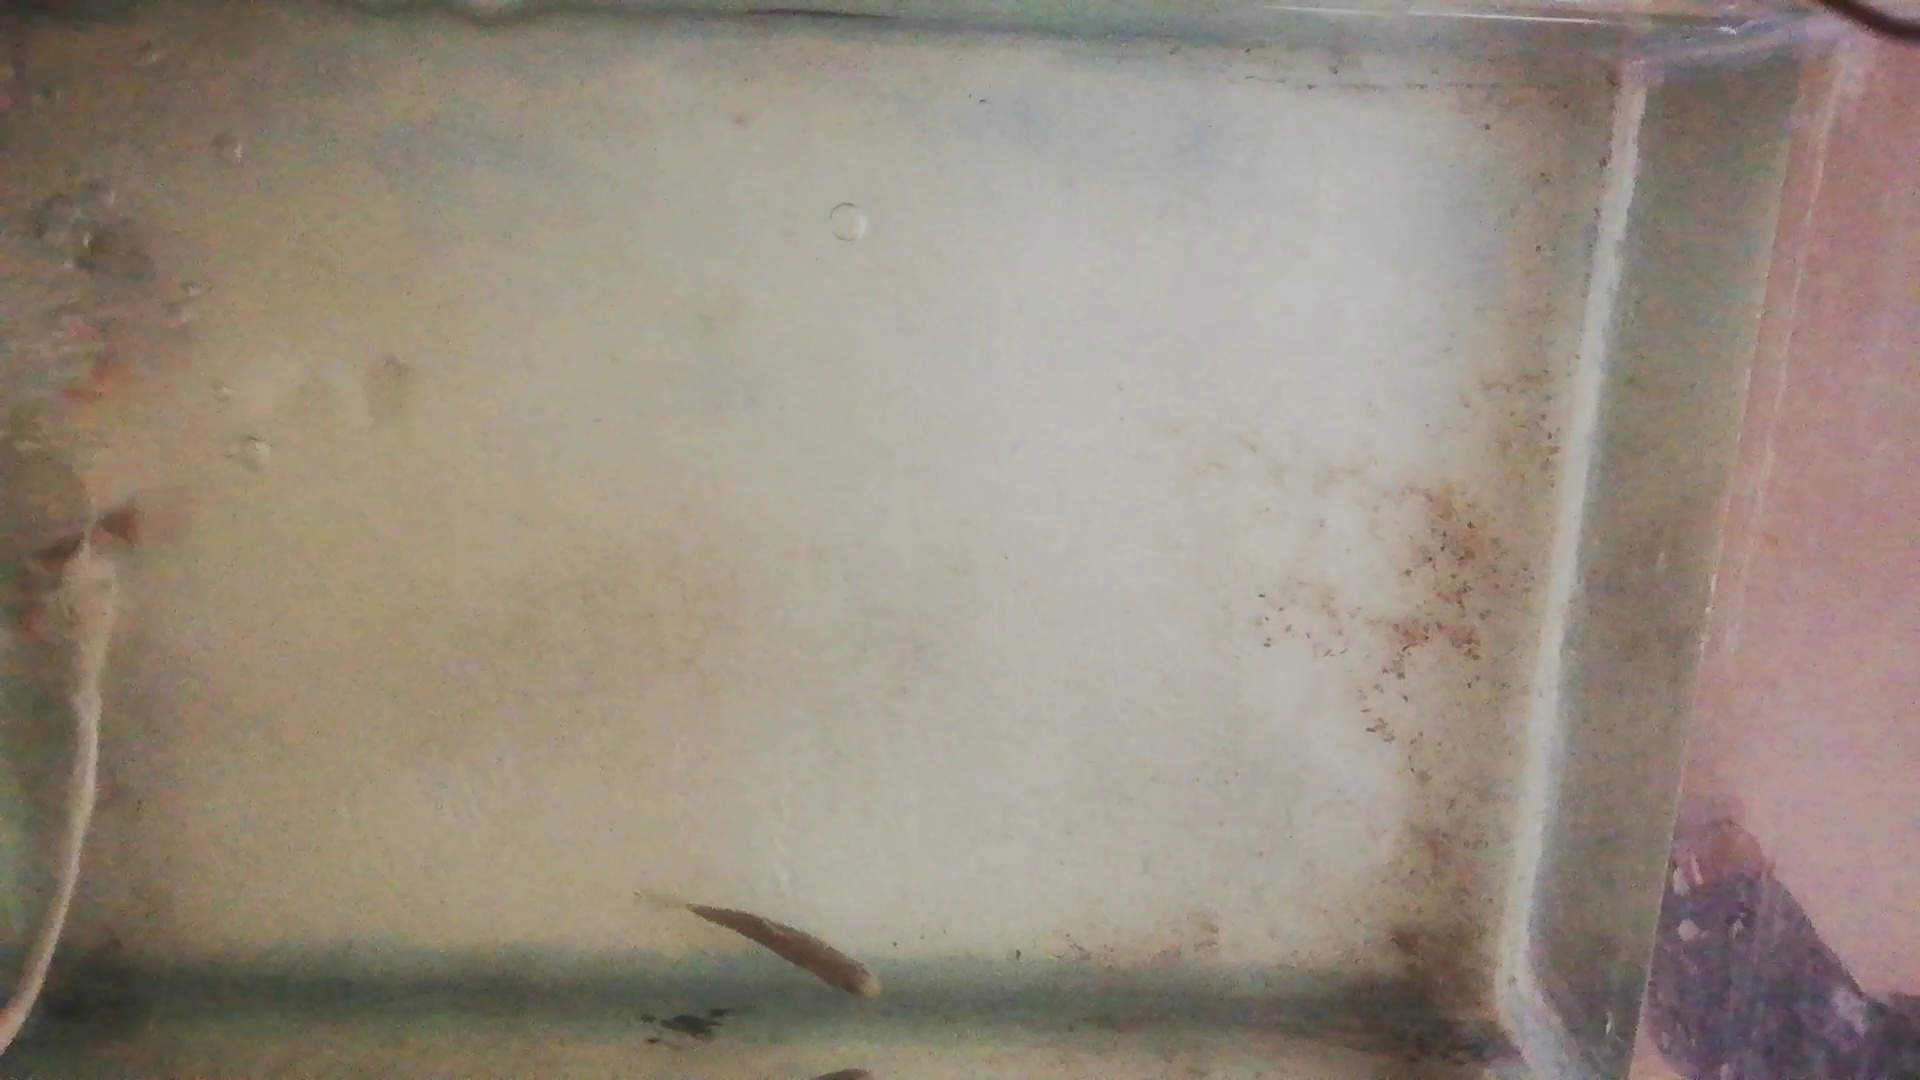fish: (684, 905, 881, 1000), (16, 504, 144, 621)
